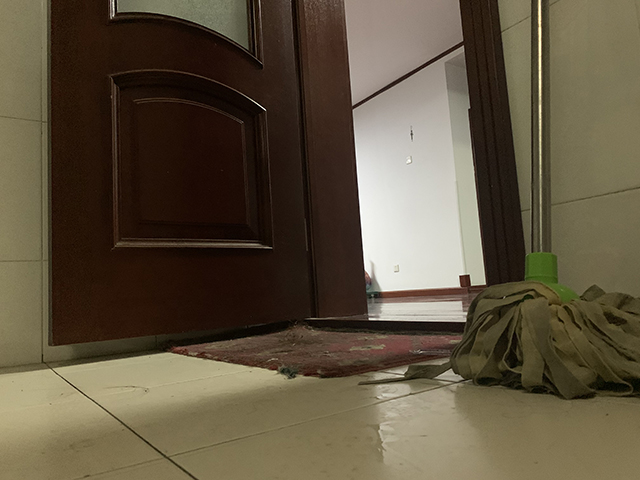carpet: (164, 323, 465, 381)
